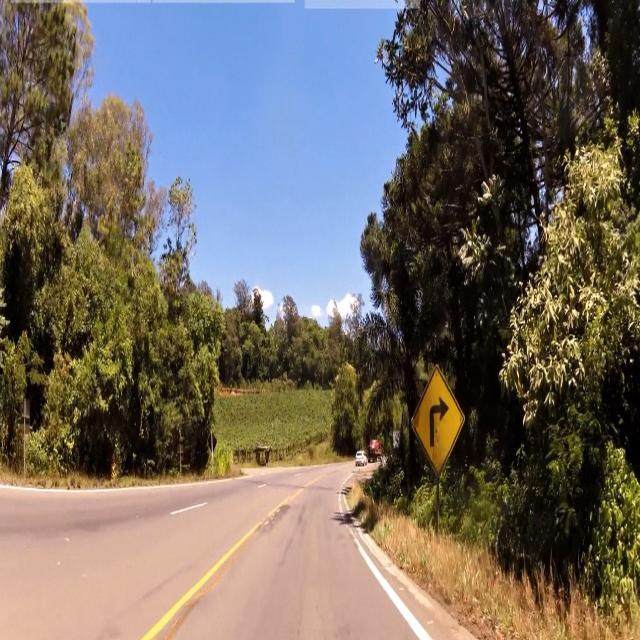A-1b: (409, 361, 467, 482)
